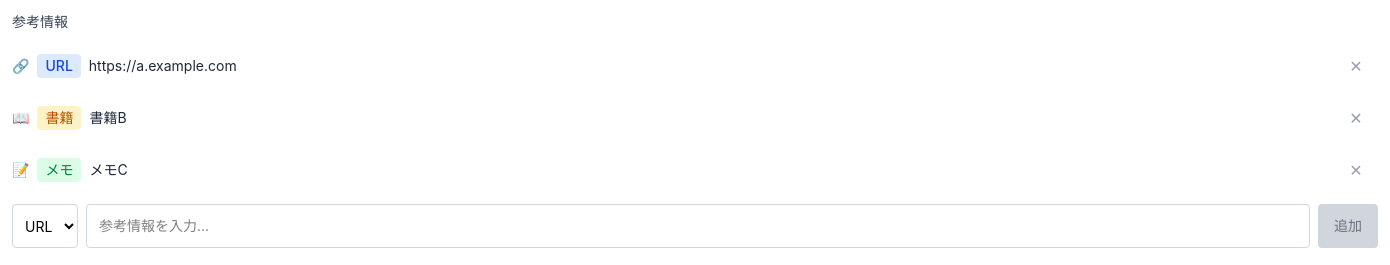
ReferenceEditor › インライン編集 › 編集中の行削除によるインデックスずれ › [A,B,C] で C を編集開始 → A を削除 → 保存で C の位置が正しく更新される
Note: C（index 2）の編集を開始
Click the button with test id "reference-item-2" at (109, 170), box [90,148,1326,192]
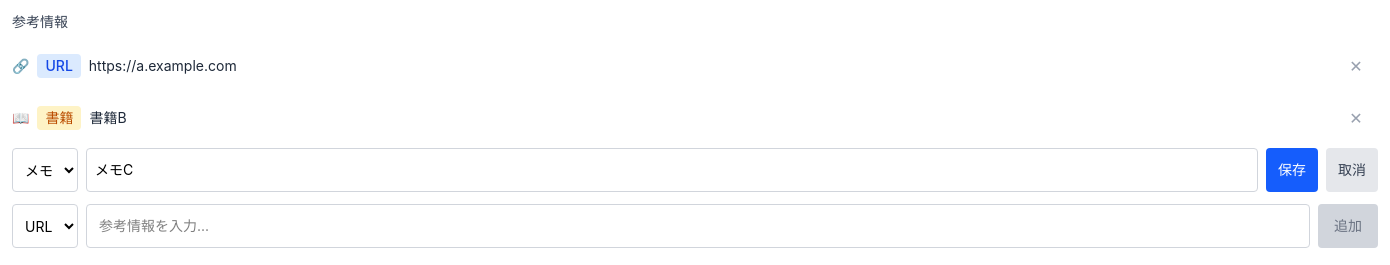
Expected: the field with test id "reference-edit-value-2" holds "メモC", [86,148,1258,192]
Note: A（index 0）を削除 → 編集対象 C は index 1 にずれる
Click the button with test id "reference-delete-0" at (1356, 66), box [1334,44,1378,88]
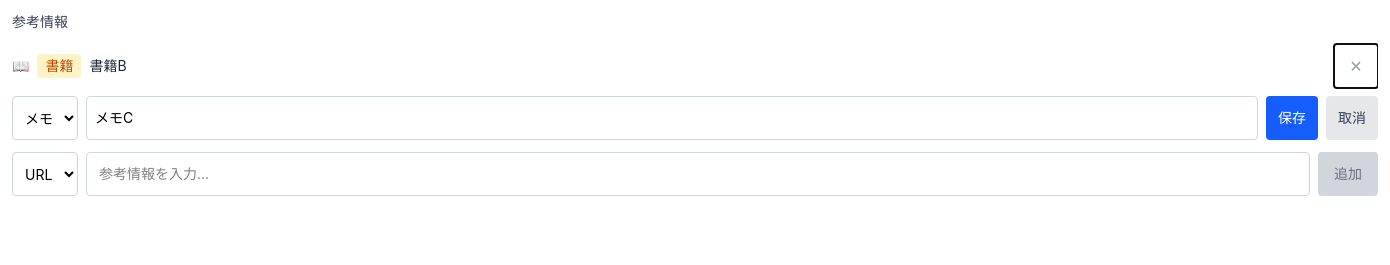
Expected: the field with test id "reference-edit-value-1" holds "メモC"
Note: 値を変更して保存
Replace the text in the field with test id "reference-edit-value-1" with "メモC更新" at (672, 118), box [86,96,1258,140]
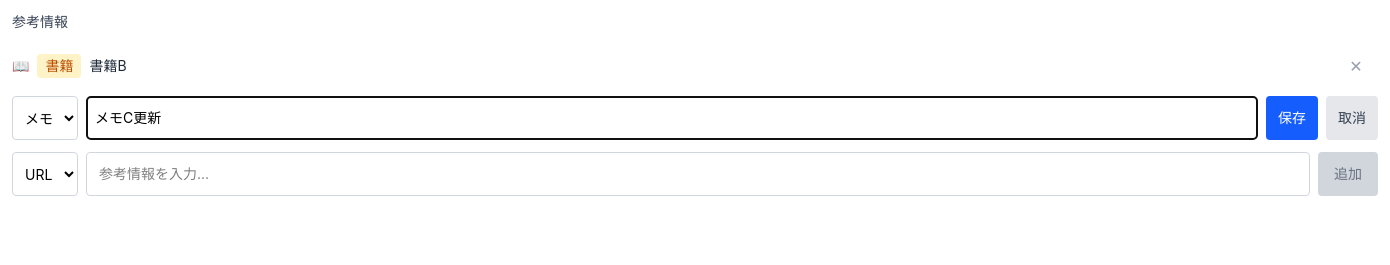
Click the button with test id "reference-edit-save-1" at (1292, 118), box [1266,96,1318,140]
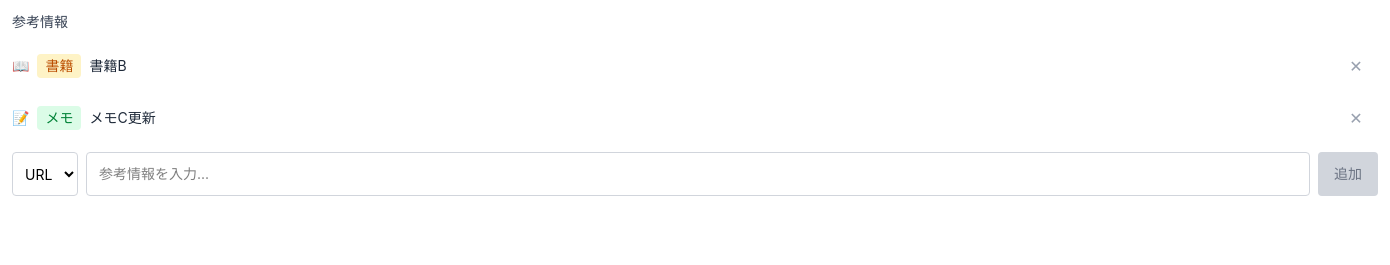
Expected: the button with test id "reference-item-0" reads "書籍B", [90,44,1326,88]
Expected: the button with test id "reference-item-1" reads "メモC更新", [90,96,1326,140]
